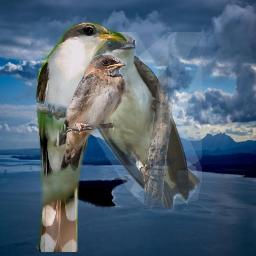Cuckoo: (34, 20, 128, 252)
Swallow: (83, 32, 202, 211), (52, 53, 127, 171)
